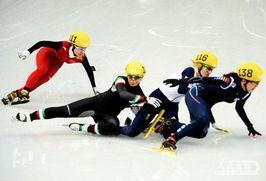Fall-Detected: (113, 57, 202, 141)
